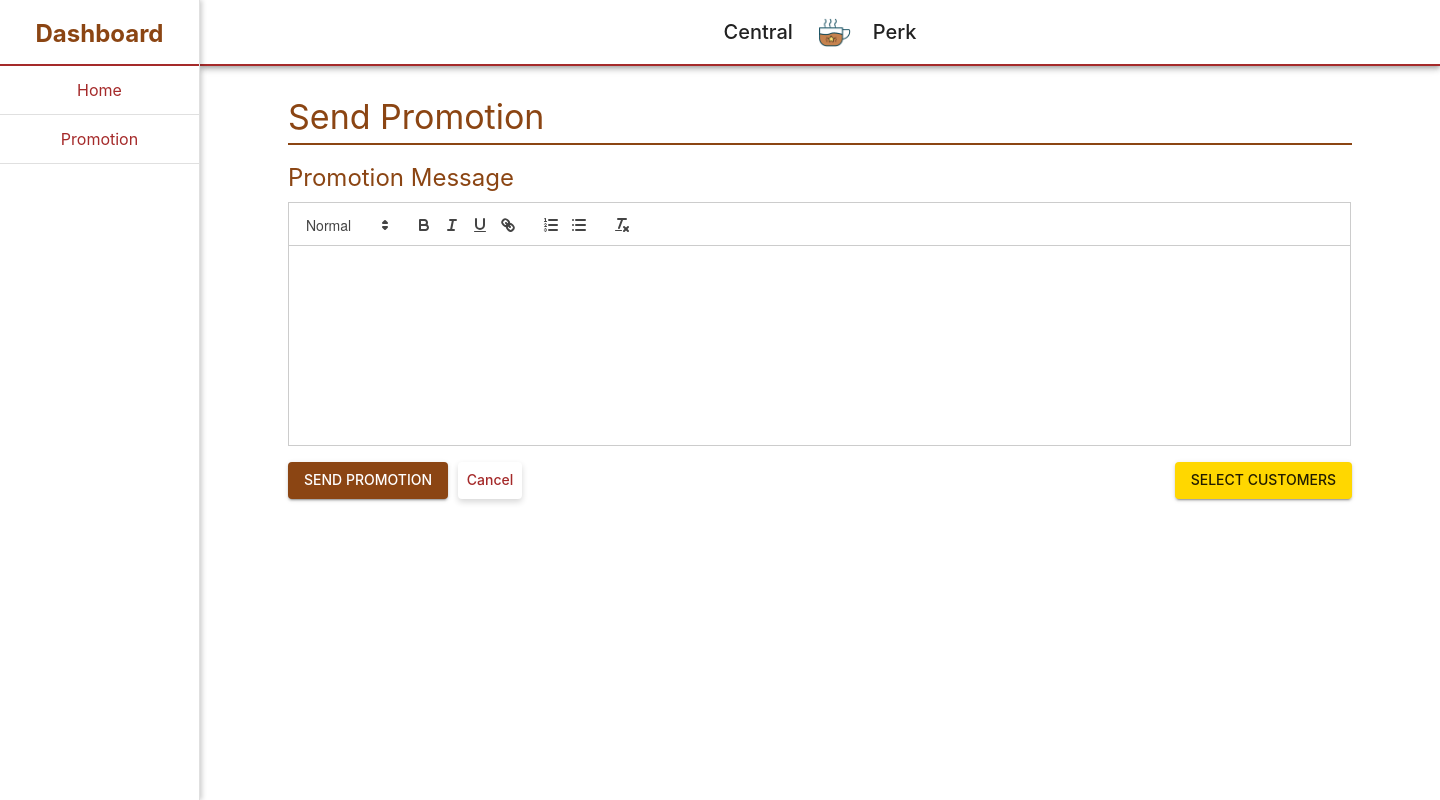
Test: Promotion Component › should show error when no customers are selected
Click the button "Send Promotion" at (368, 481), box x1=288 y1=462 x2=448 y2=499
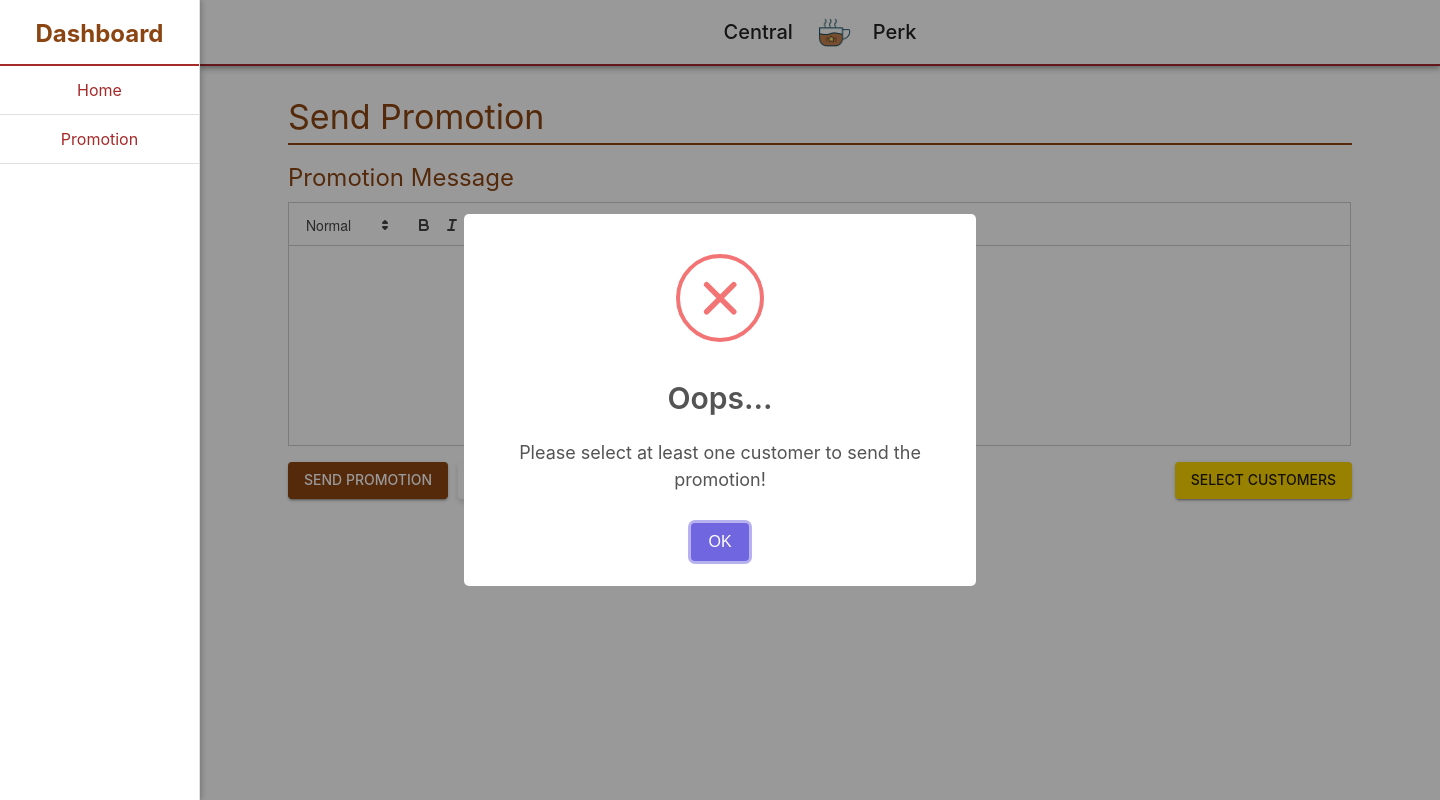
Expected: the text "Please select at least one customer to send the promotion!" is shown, x1=493 y1=439 x2=947 y2=493
